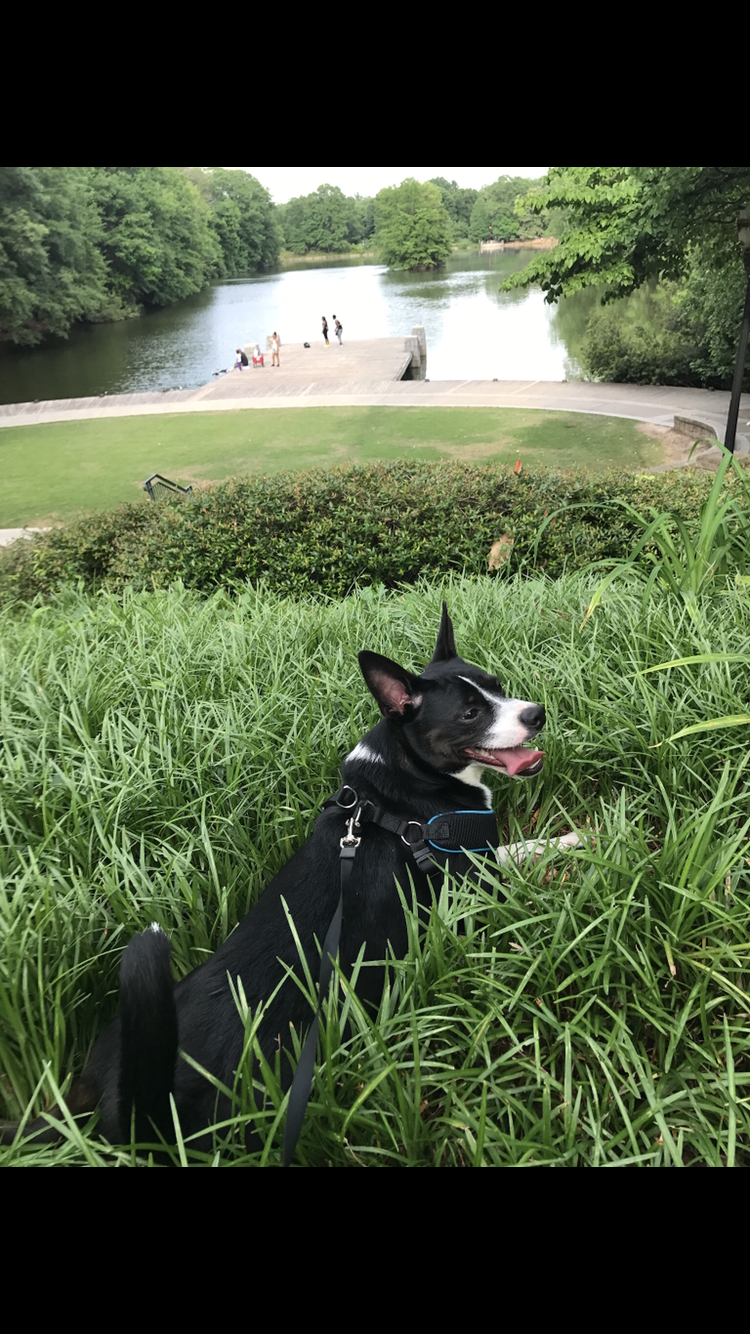Harley: (56, 598, 602, 1145)
